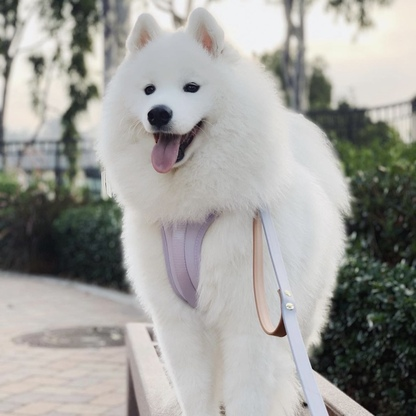samoyed: (90, 4, 362, 416)
